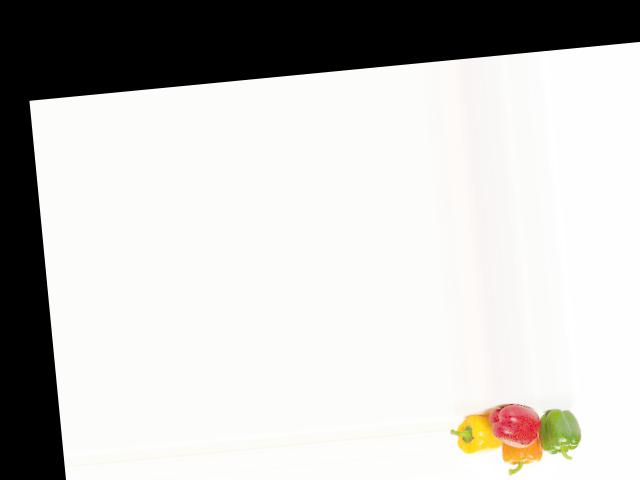bell_pepper: (533, 400, 583, 459)
